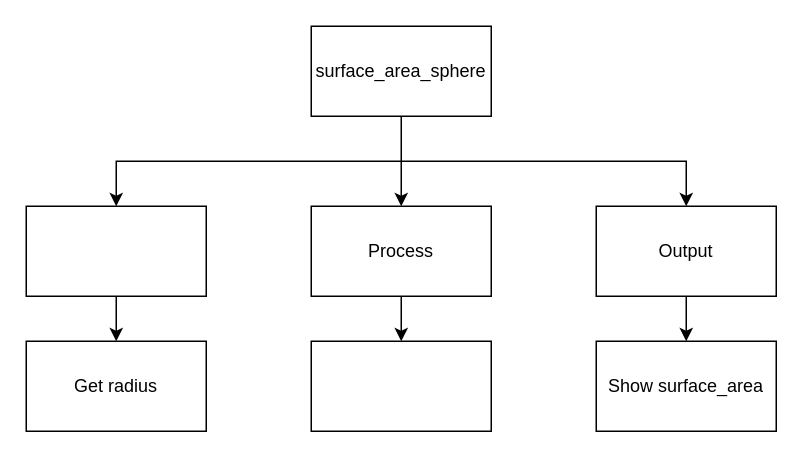
The diagram is 803 pixels wide and 458 high, and some of its shapes have lost their labels. Here are the shapes that lost their labels. From the top down, the centre of each, then its label:
the point at 115,250: Input
the point at 400,385: surface_area = 4 π r 2
